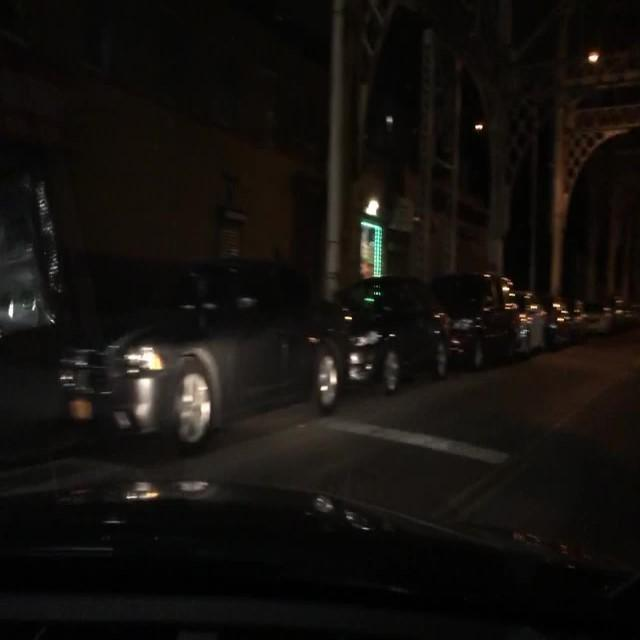normal: (335, 271, 454, 390), (433, 273, 534, 373)
